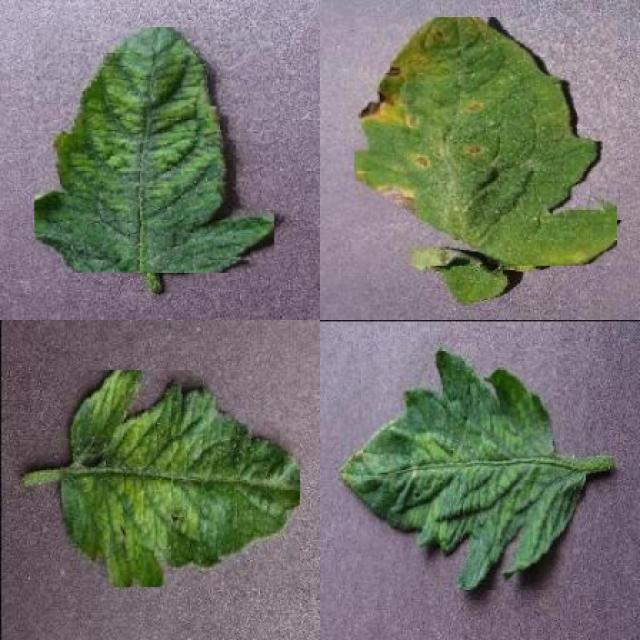Mosaic Virus: (338, 347, 586, 590), (35, 27, 275, 273), (60, 370, 300, 587)
Septoria: (355, 17, 618, 266)
